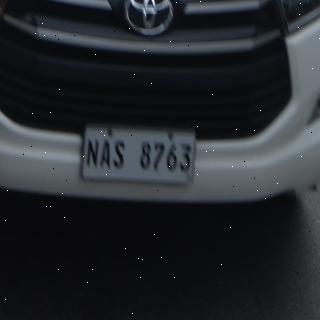license: (83, 126, 197, 186)
